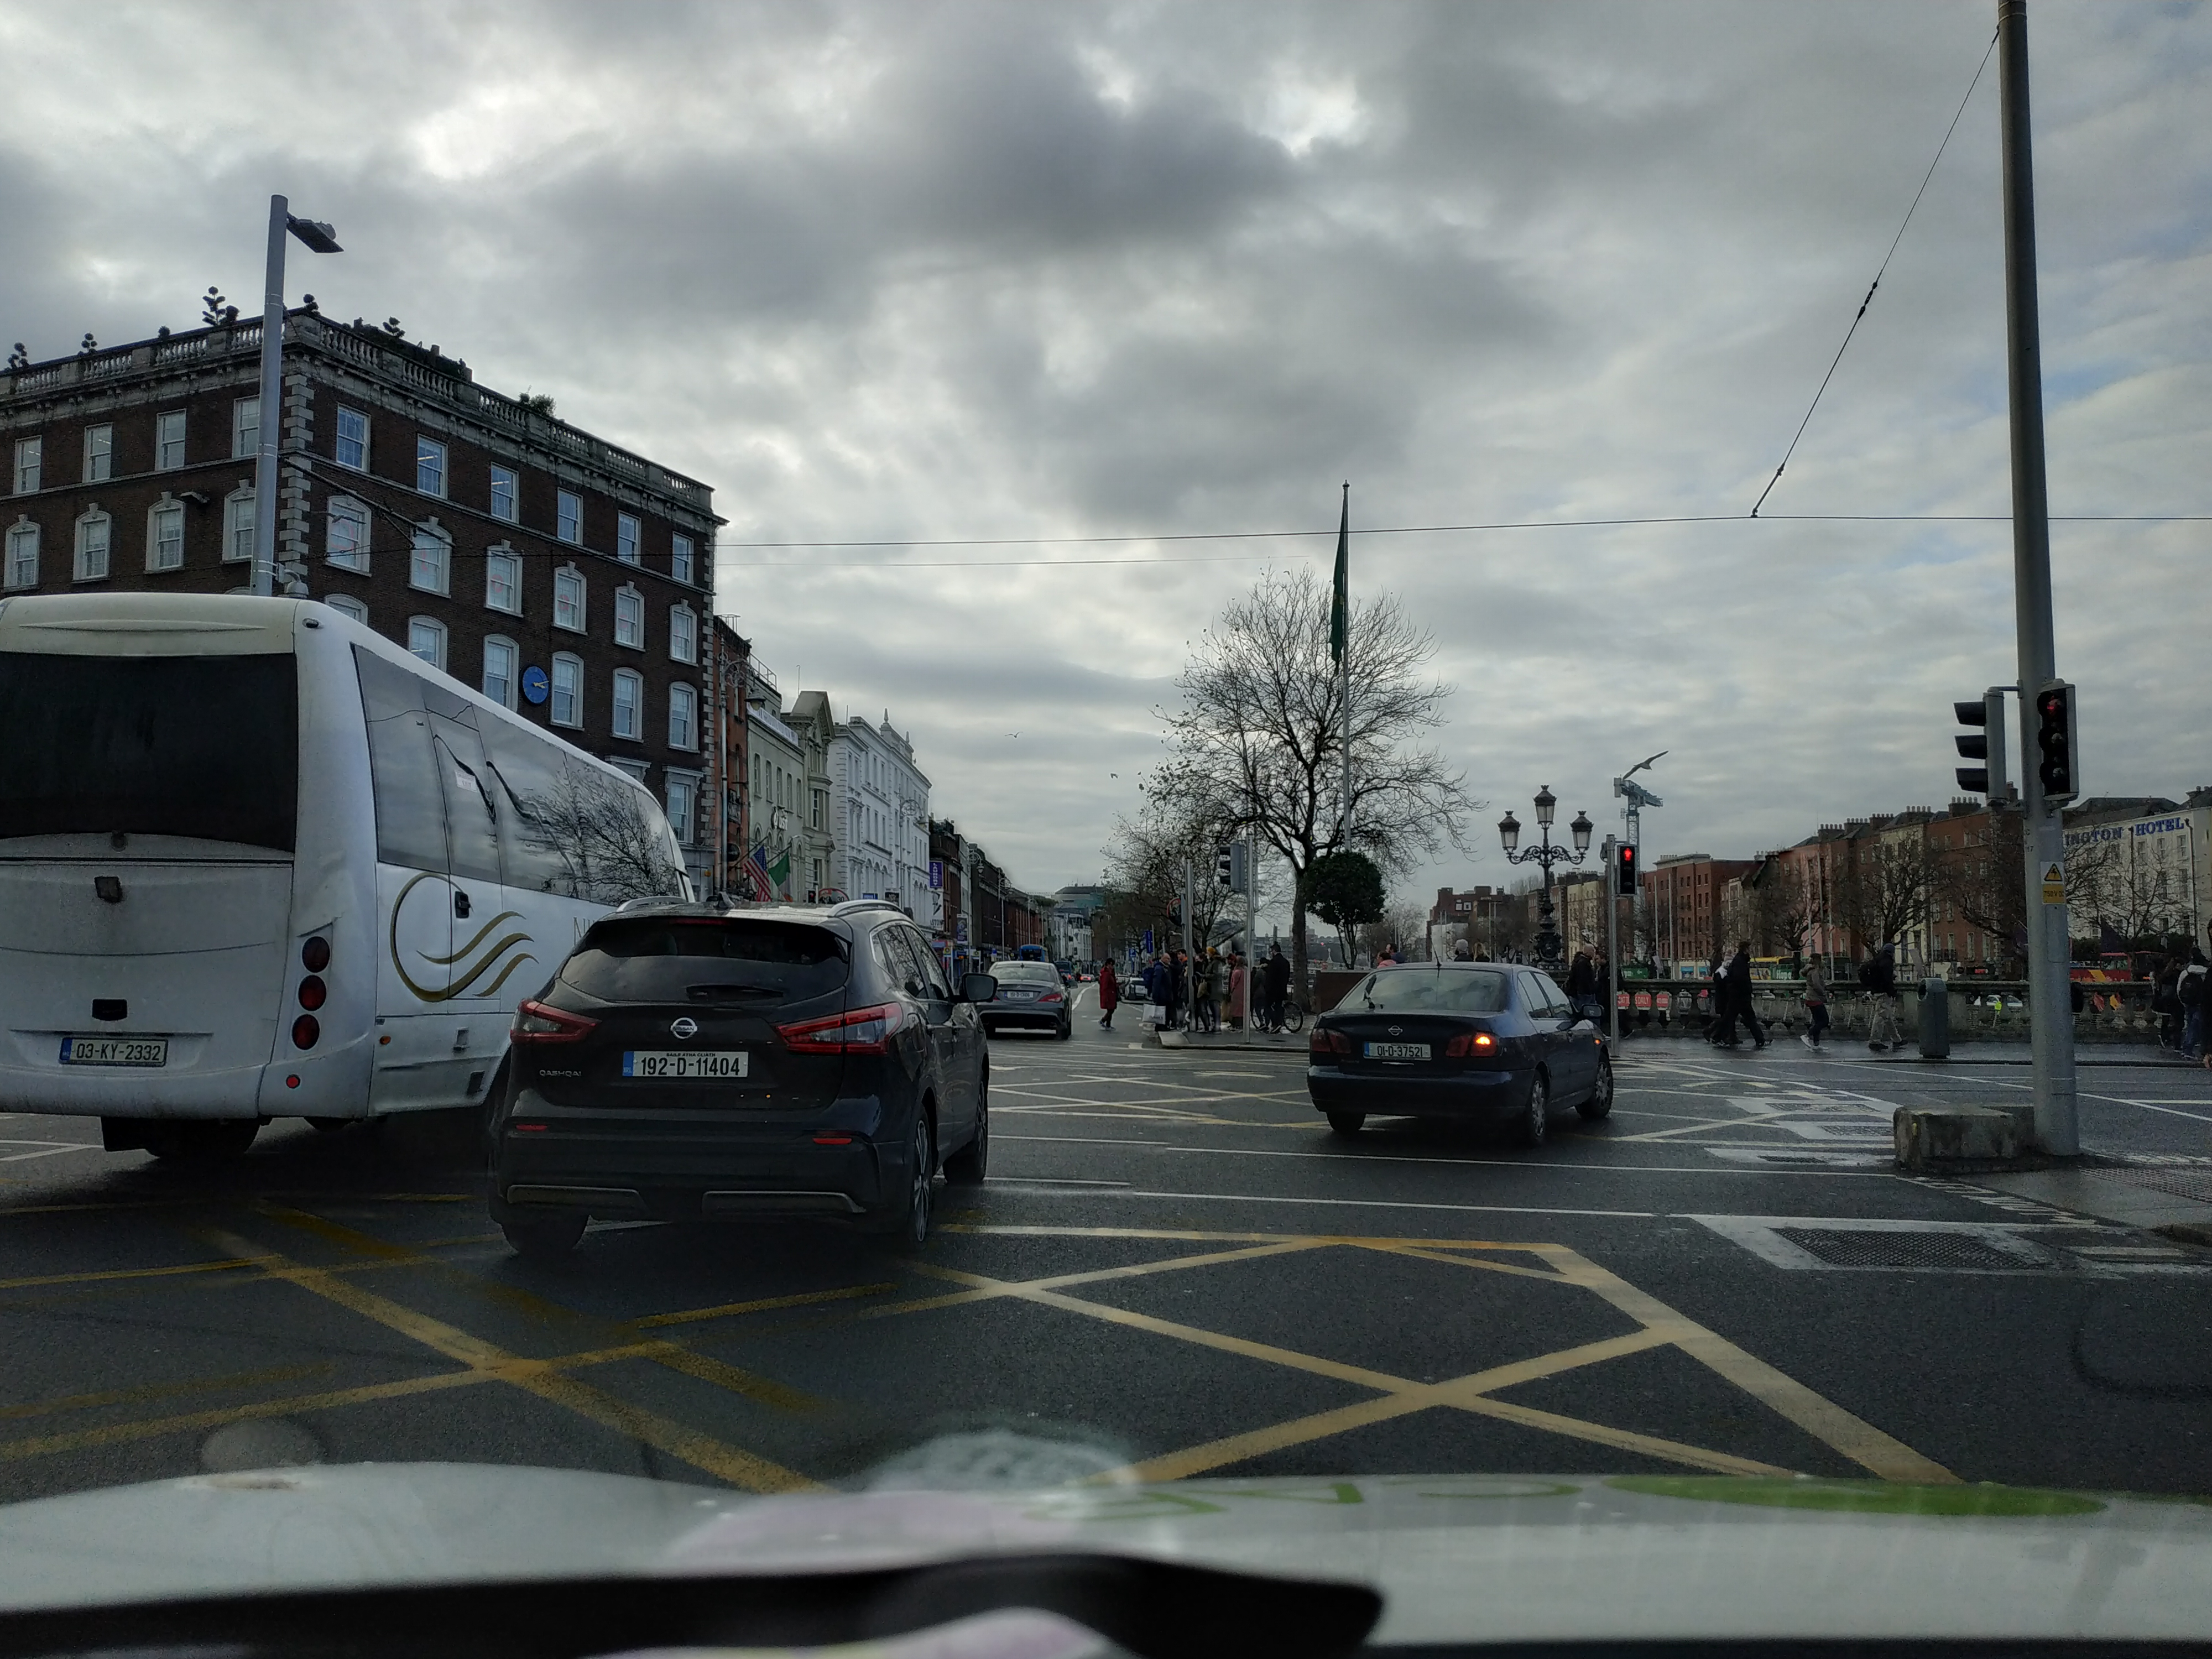Car: (484, 897, 989, 1250), (1305, 959, 1619, 1146), (972, 961, 1072, 1041)
Person: (1858, 943, 1907, 1051), (1721, 940, 1767, 1050), (2177, 957, 2212, 1061), (1799, 953, 1830, 1051), (1261, 941, 1292, 1036), (1196, 946, 1222, 1036), (1150, 952, 1175, 1029), (1228, 956, 1248, 1031), (1098, 958, 1118, 1030)
Van: (1, 599, 684, 1150)
